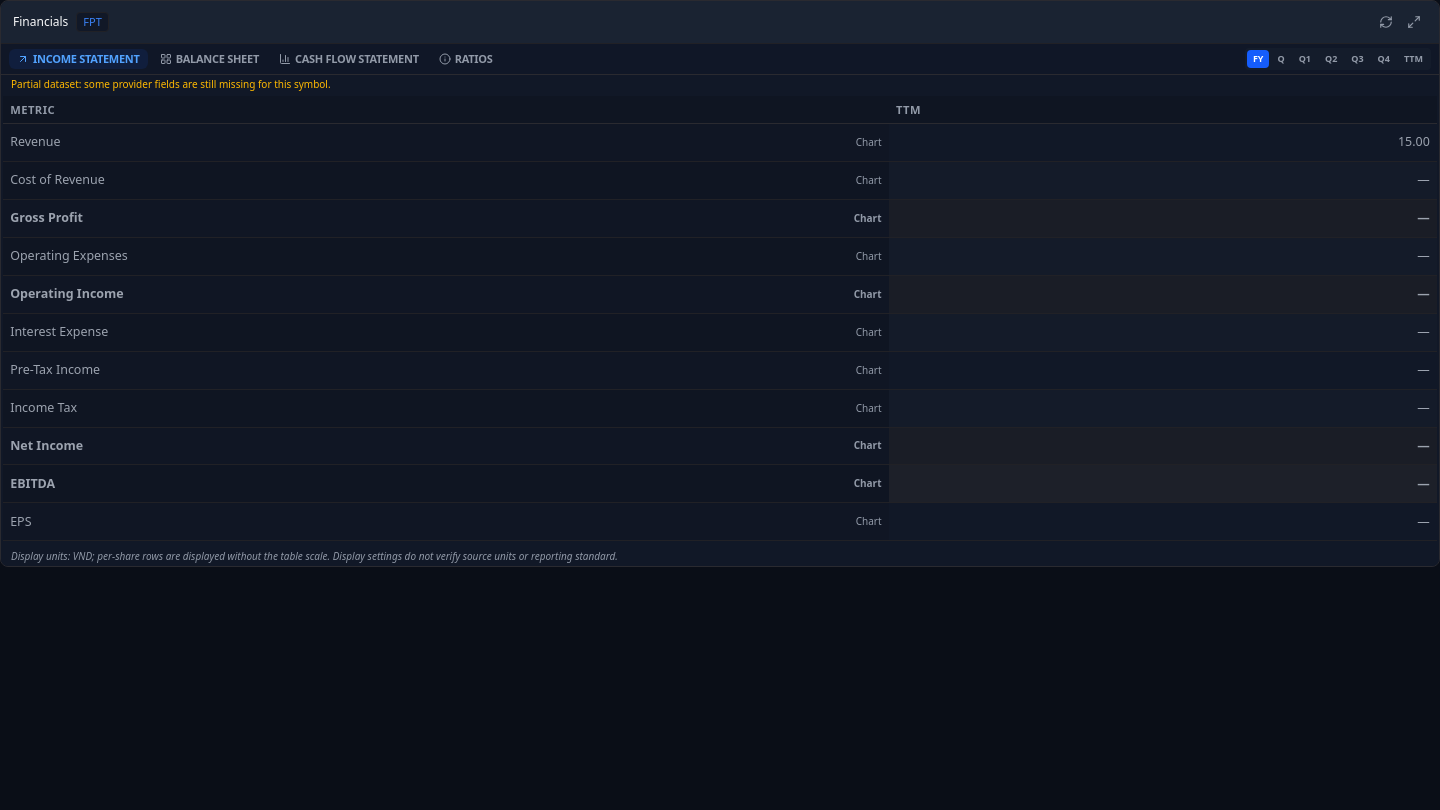
it: FinancialsWidget › uses backend TTM statements and discloses unsupported ratio TTM
Click the button "TTM": [1413, 59] box [1398,50,1429,68]
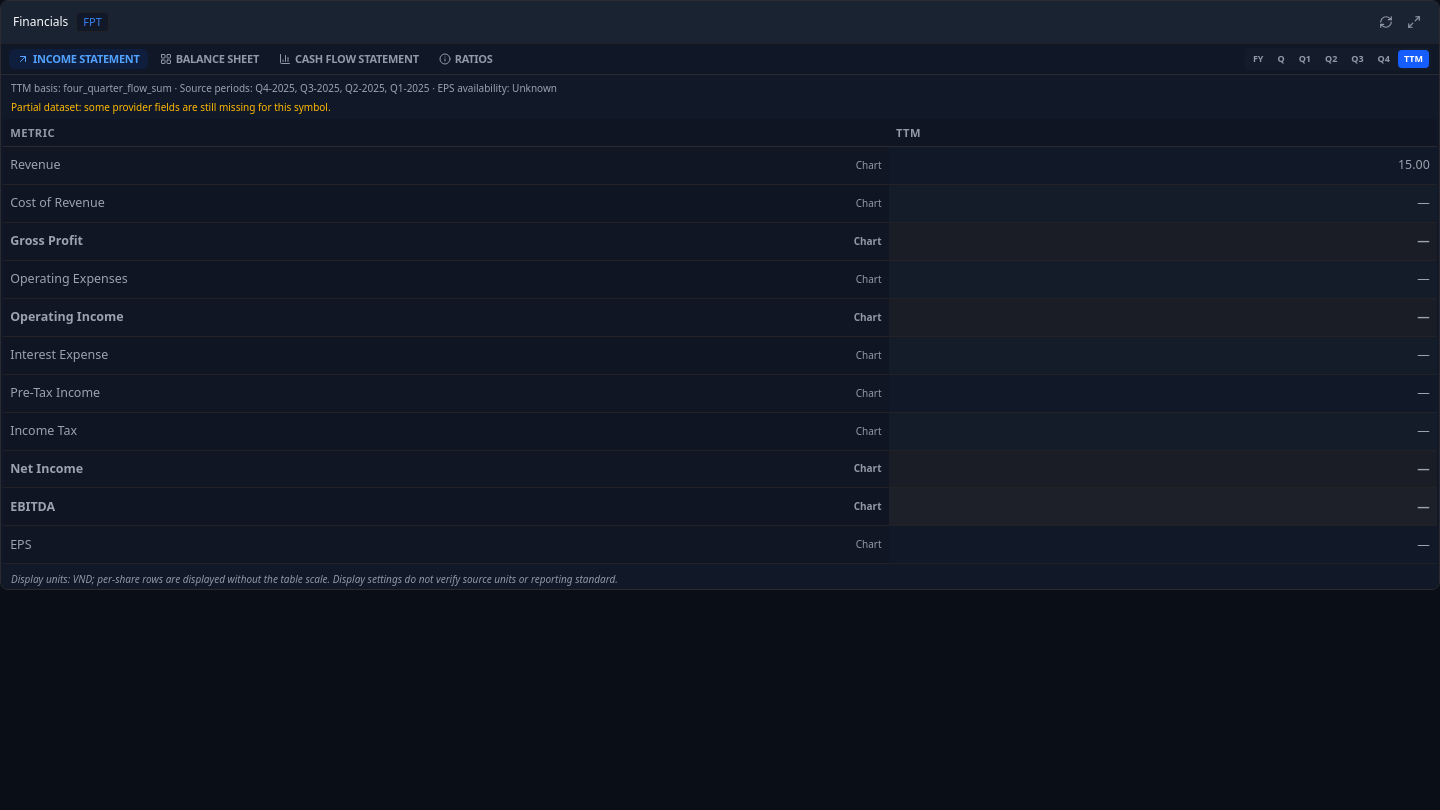
Expected: the element showing "Metric TTM" is shown, [3,118,1437,146]
Expected: the text "Revenue" shows "15.00", [1398,156,1430,174]
Click the button "Ratios": [466, 59] box [431,48,501,69]
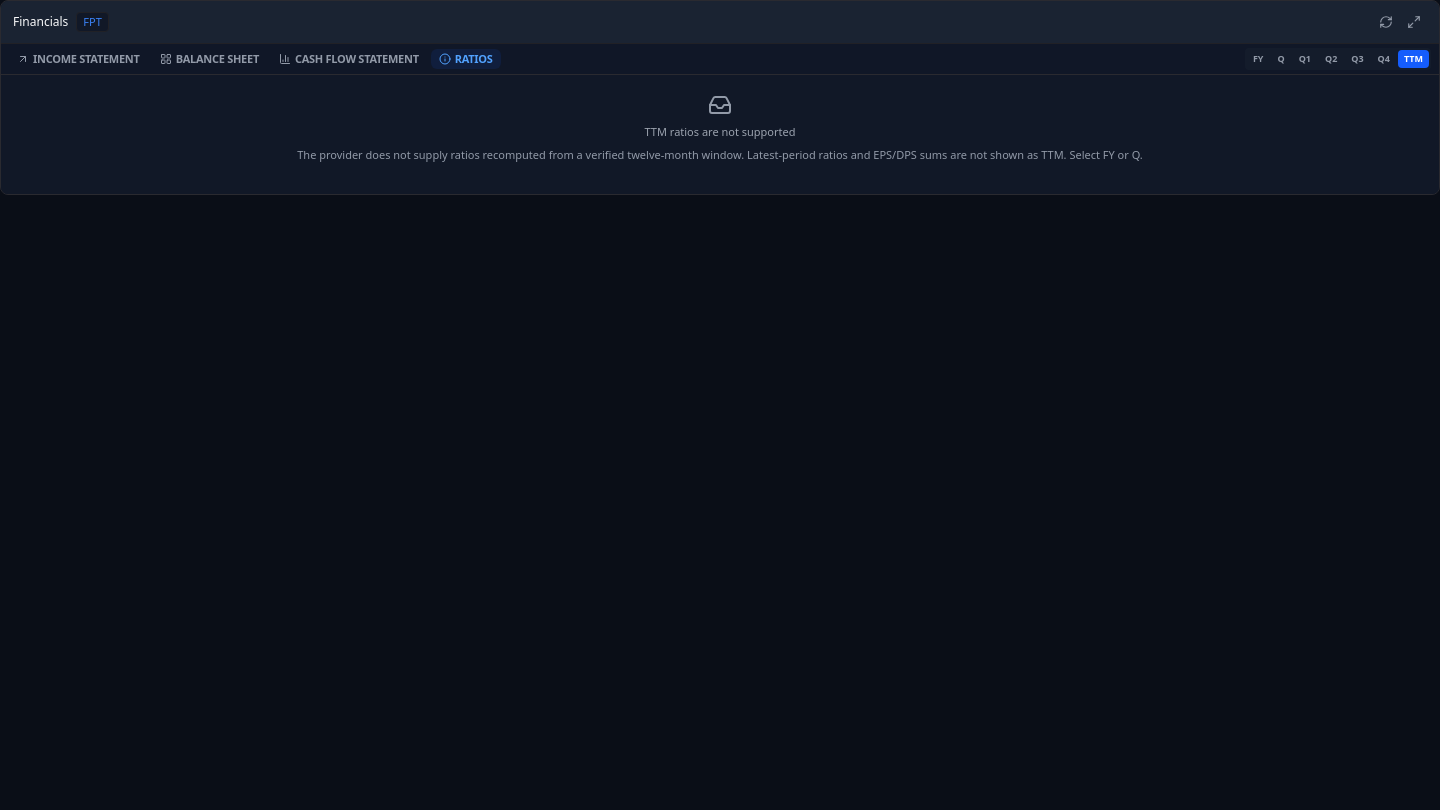
Expected: the text "TTM ratios are not supported" is shown, [644,124,796,139]
Expected: the table is gone
